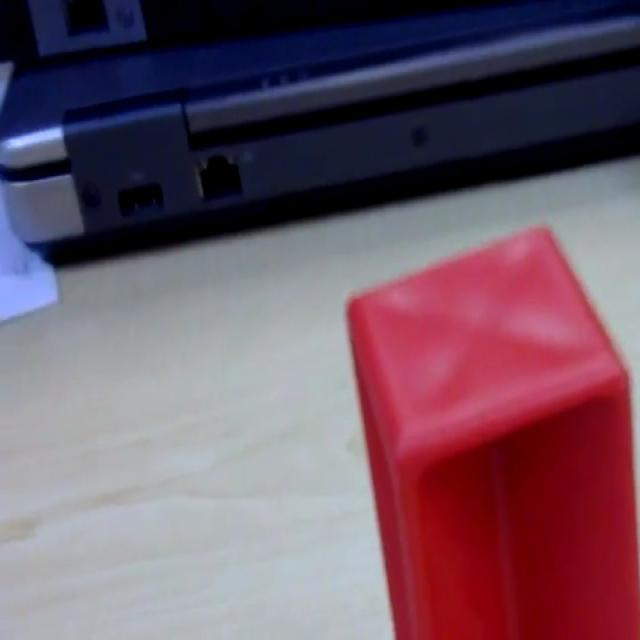red_block: (344, 221, 638, 636)
